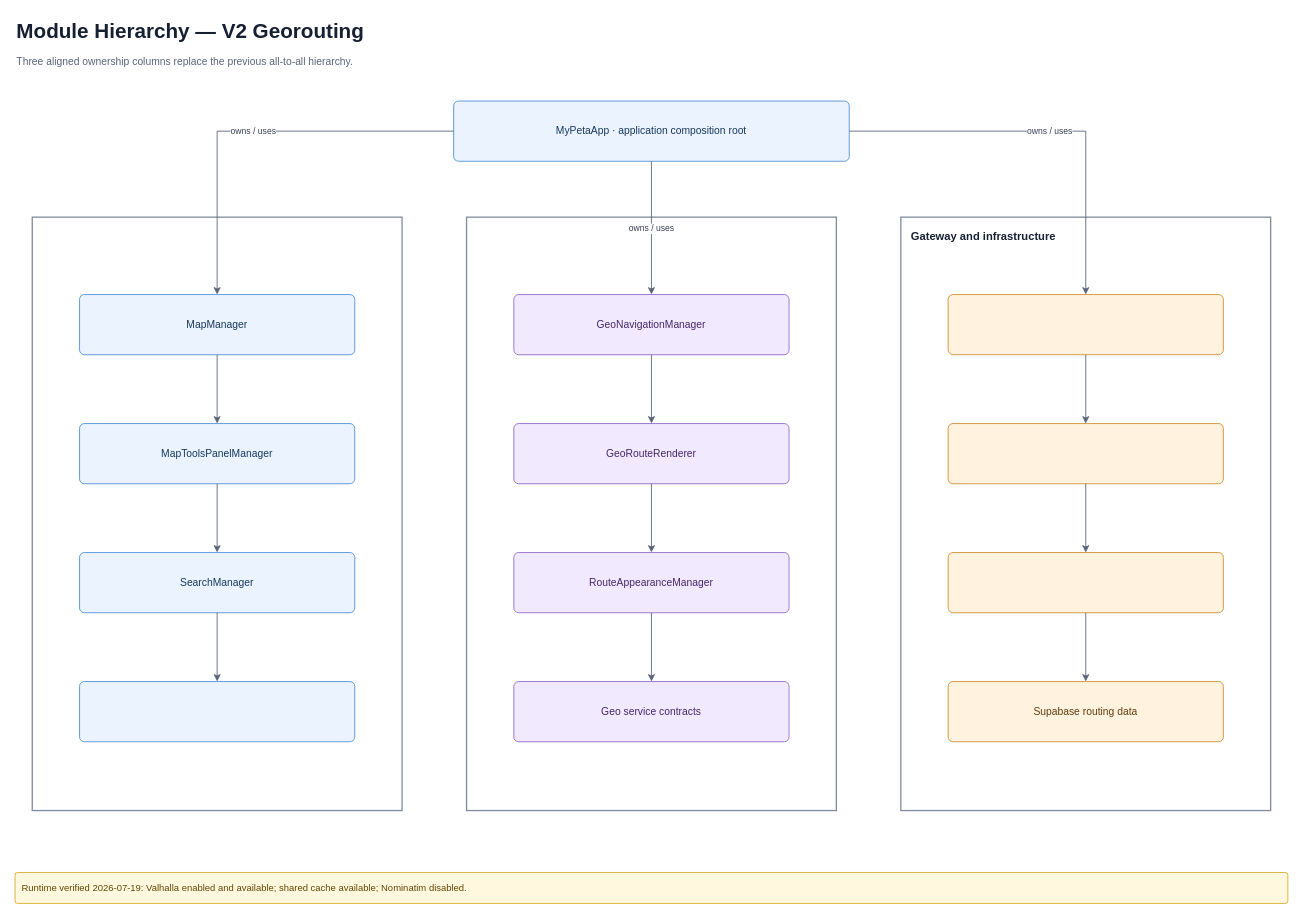
Image size: 1303x918. Some labels were removed from this diagram. Here are the shapes that lost their labels. From the top down, the box of each, then its label:
(947, 294, 1223, 355): Express Geo API
(947, 423, 1223, 484): GeoGateway
(31, 216, 402, 811): Discovery and intent
(466, 216, 837, 811): Georouting orchestration
(947, 552, 1223, 613): Valhalla / Nominatim
(79, 681, 355, 742): JobFinderManager
